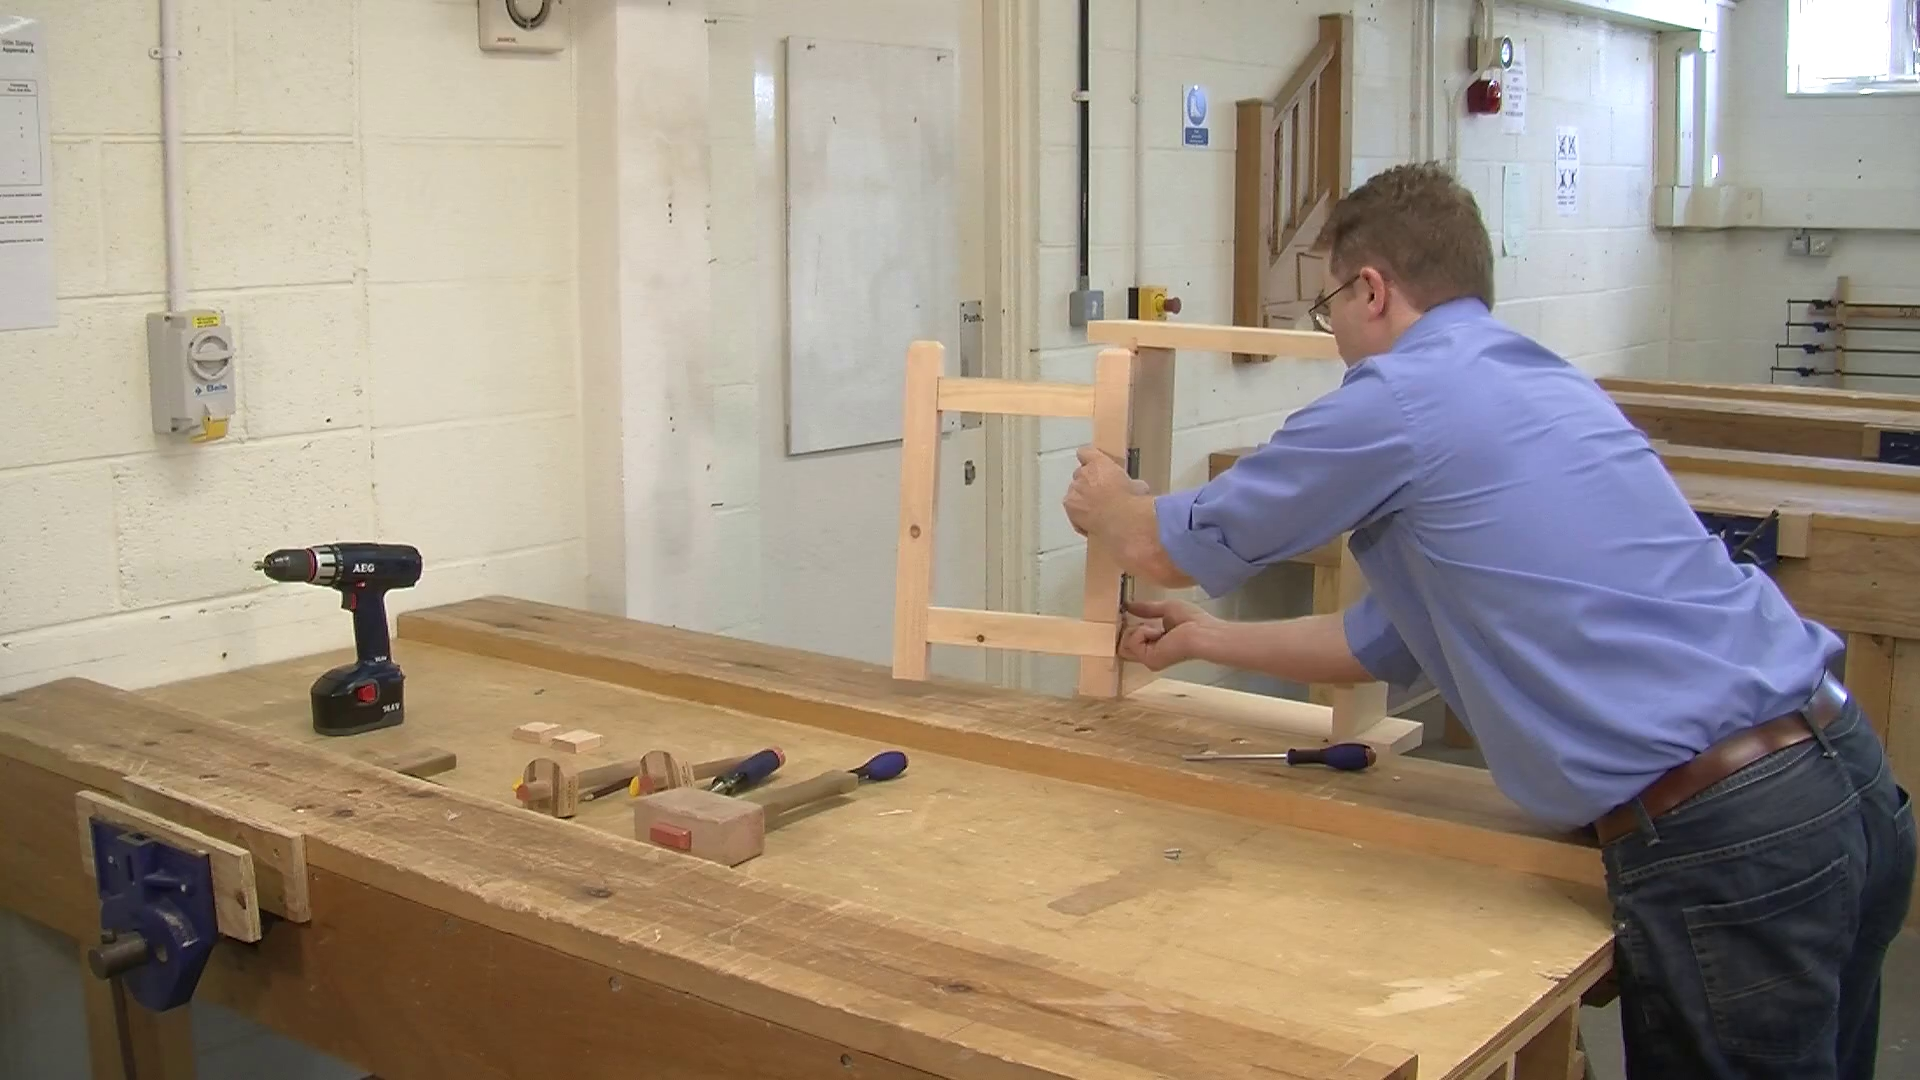person: (1062, 160, 1916, 1080)
